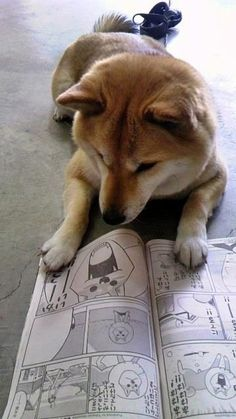doge: (50, 48, 230, 238)
